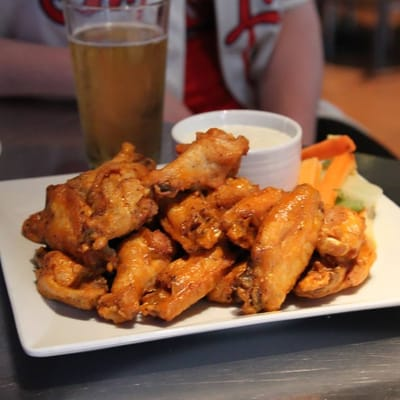sushi: (170, 109, 303, 192)
